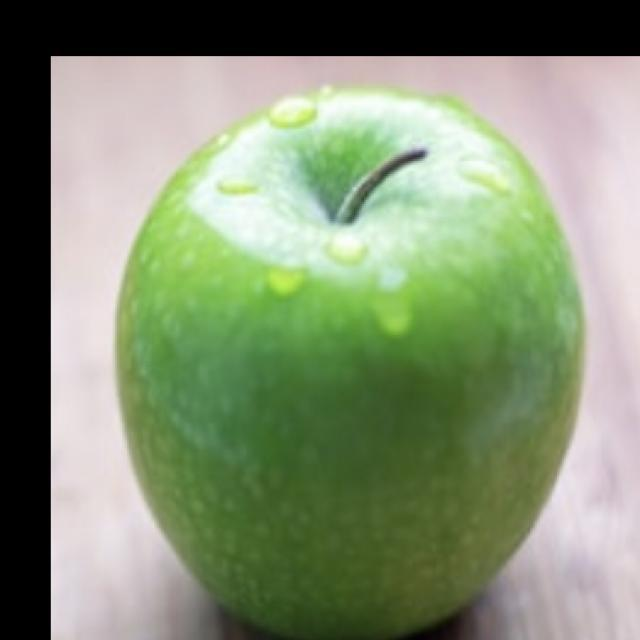Fresh Apple: (117, 84, 587, 640)
